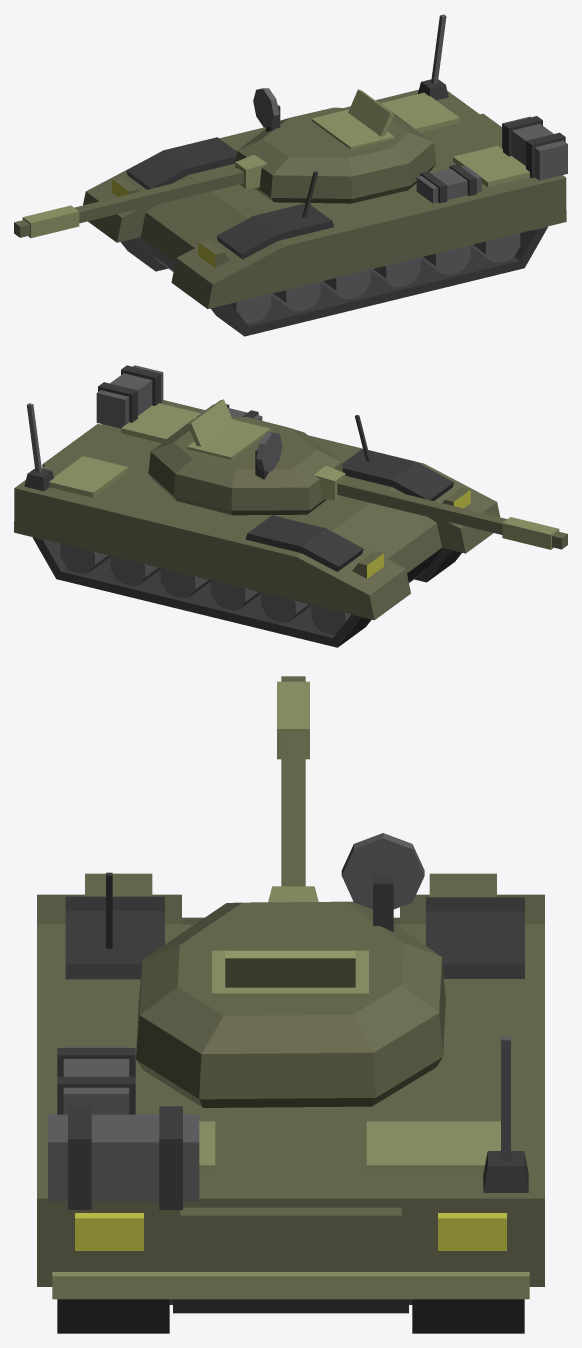
Rendered from tank.glb.
The picture shows the model from 3 angles, top to bottom: view 1: azimuth 30°, elevation 25°; view 2: azimuth 150°, elevation 25°; view 3: azimuth 270°, elevation 25°; orthographic projection. The views are drawn at different scales.
Parts seen in each view (by area): view 1: Cube.002; view 2: Cube.002; view 3: Cube.002.
Part boxes in pixels (left/top/right/bottom): Cube.002: left=14, top=14, right=567, bottom=336; Cube.002: left=14, top=365, right=567, bottom=647; Cube.002: left=37, top=676, right=544, bottom=1333.
Bounding box in the file's own units: 11.35 × 3.58 × 5.06.
Materials: 1 (1 with a texture image).
